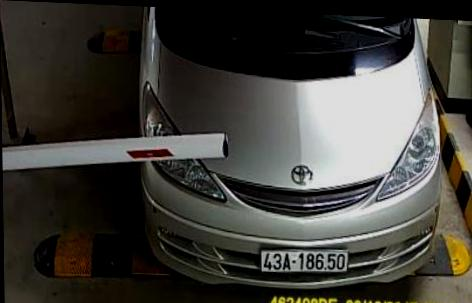License_Plate: (256, 244, 354, 284)
